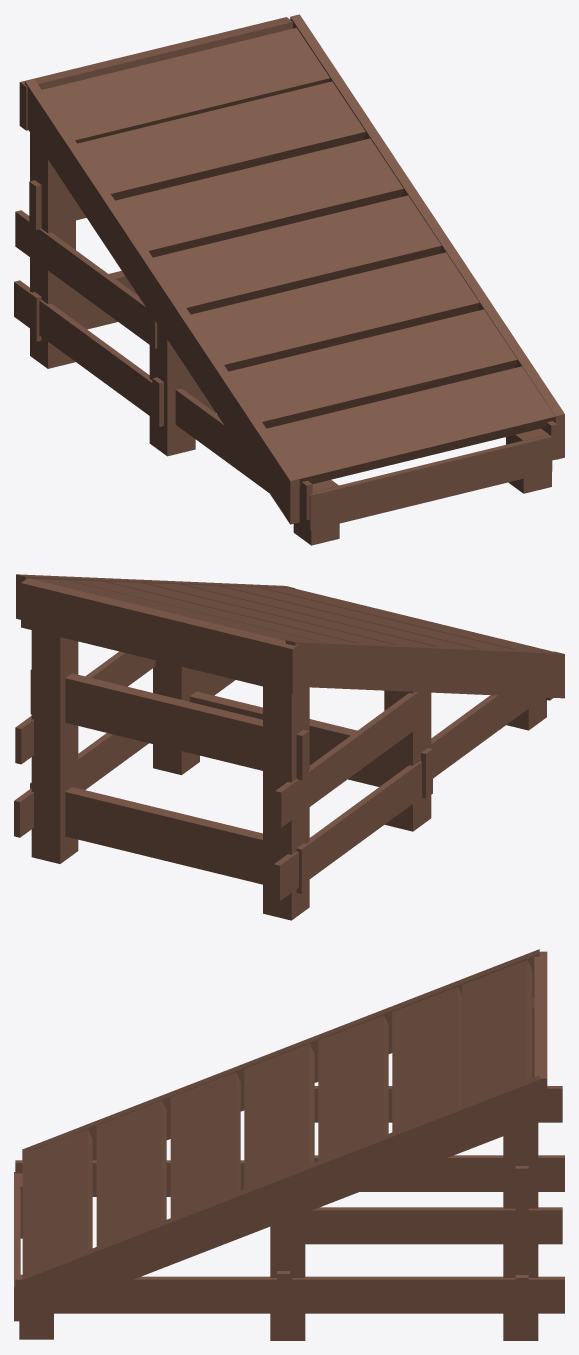
File: base_trilho_down.fbx
3 renders of one model, top to bottom at view 1: azimuth 30°, elevation 25°; view 2: azimuth 150°, elevation 25°; view 3: azimuth 270°, elevation 25°, orthographic. The views are drawn at different scales.
Parts seen in each view (by area): view 1: base_trilho_down; view 2: base_trilho_down; view 3: base_trilho_down.
Part boxes in pixels (left/top/right/bottom): base_trilho_down: left=14, top=14, right=564, bottom=545; base_trilho_down: left=14, top=574, right=564, bottom=920; base_trilho_down: left=14, top=949, right=564, bottom=1340.
Bounding box in the file's own units: 222 × 211 × 394.
